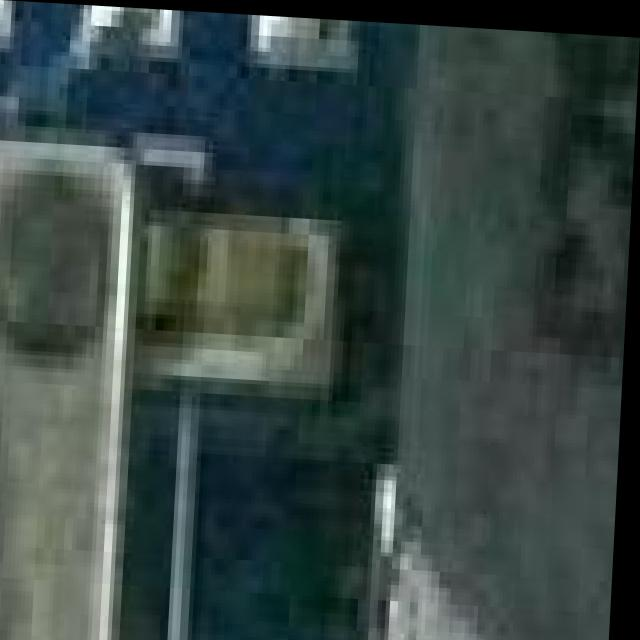inductor: (390, 19, 640, 640)
switch: (0, 136, 194, 640)
transistor: (87, 4, 368, 33), (0, 0, 48, 46)
